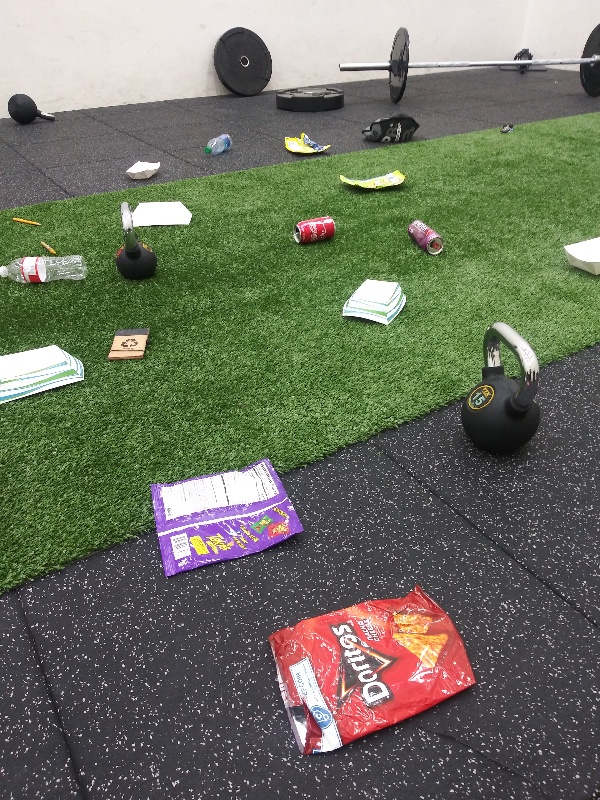bag: (260, 585, 481, 764), (146, 455, 311, 589), (336, 163, 410, 196), (280, 130, 336, 158)
bottle: (1, 251, 93, 288), (200, 131, 237, 158)
can: (400, 217, 447, 259), (290, 215, 339, 247)
plate: (1, 340, 90, 411), (336, 271, 412, 330), (128, 197, 196, 230), (560, 231, 600, 281), (119, 156, 165, 182)
